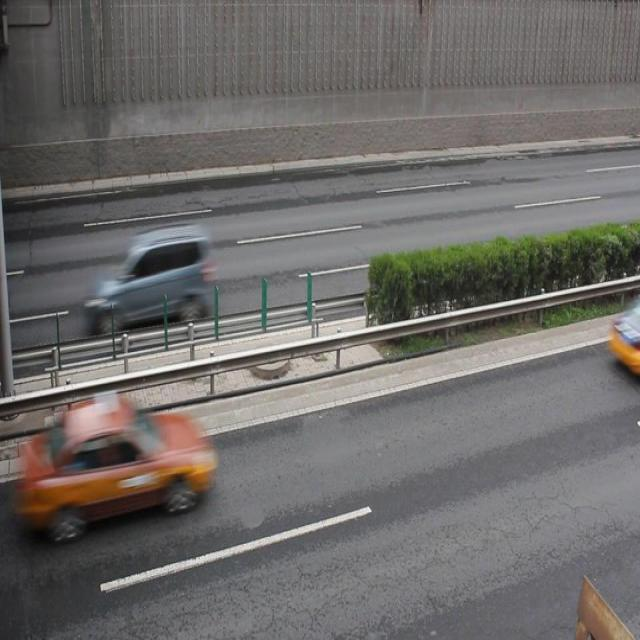car: (43, 390, 217, 533), (87, 224, 213, 334)
